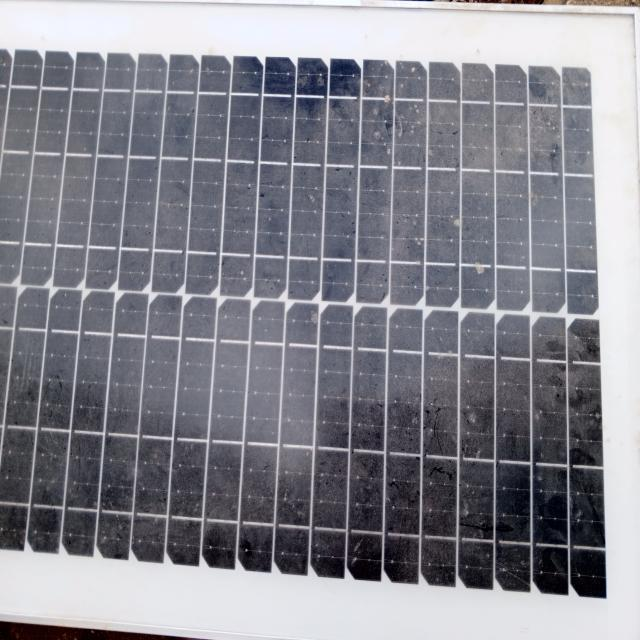Surface Contaminant: (13, 33, 594, 601)
